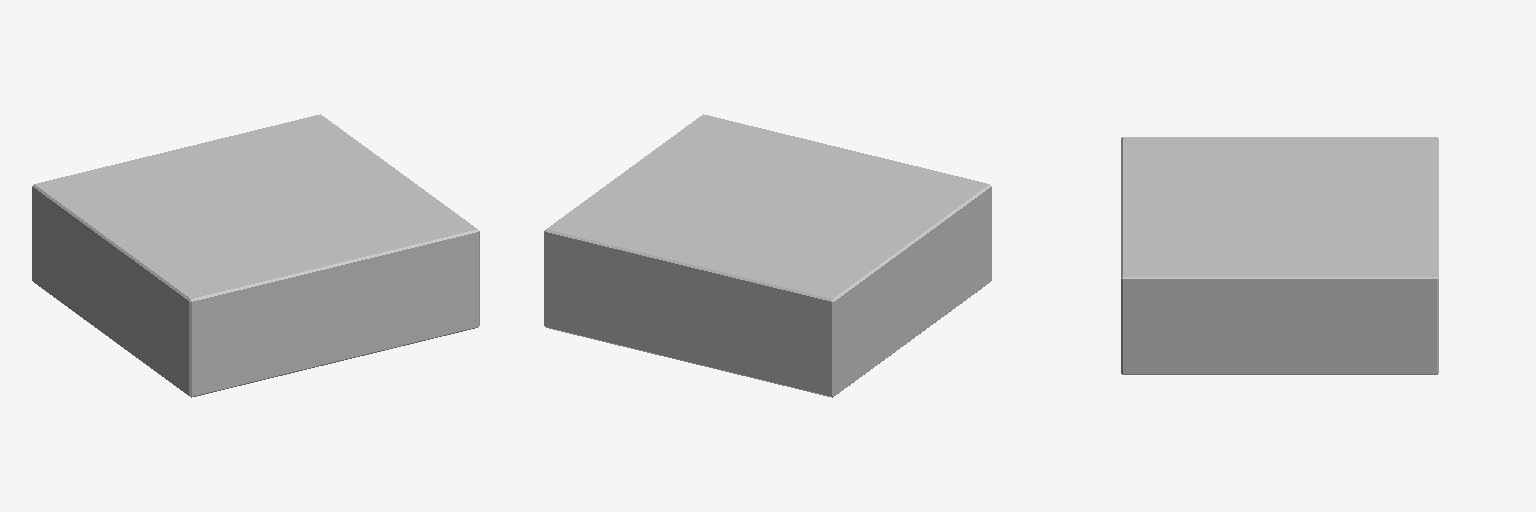
Rendered from Input_prediction_mesh.obj.
3 views of the same model, side by side, from view 1: azimuth 30°, elevation 25°; view 2: azimuth 150°, elevation 25°; view 3: azimuth 270°, elevation 25° (orthographic).
Parts seen in each view (by area): view 1: mat1, mat0, mat3; view 2: mat1, mat0, mat5; view 3: mat1, mat0.
Boxes of the visible parts, <box> form: mat1: <box>40,115,477,301</box>; mat0: <box>32,114,479,397</box>; mat3: <box>118,175,416,307</box>; mat1: <box>546,115,983,301</box>; mat0: <box>544,114,991,397</box>; mat5: <box>695,291,729,324</box>; mat1: <box>1121,139,1438,320</box>; mat0: <box>1121,137,1438,374</box>.
Bounding box in the file's own units: 6.4 × 2.08 × 6.08.